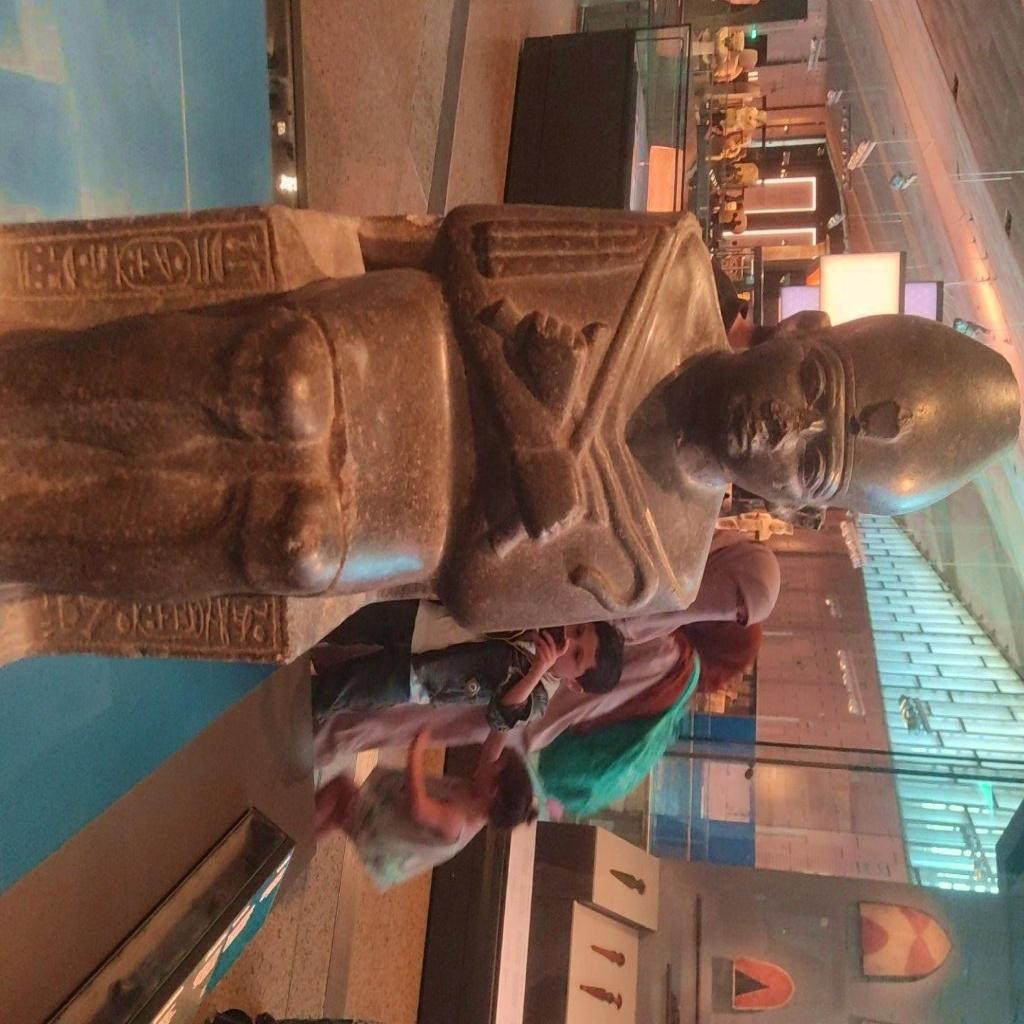Statue of Sobekhotep V: (194, 3, 660, 1020)
